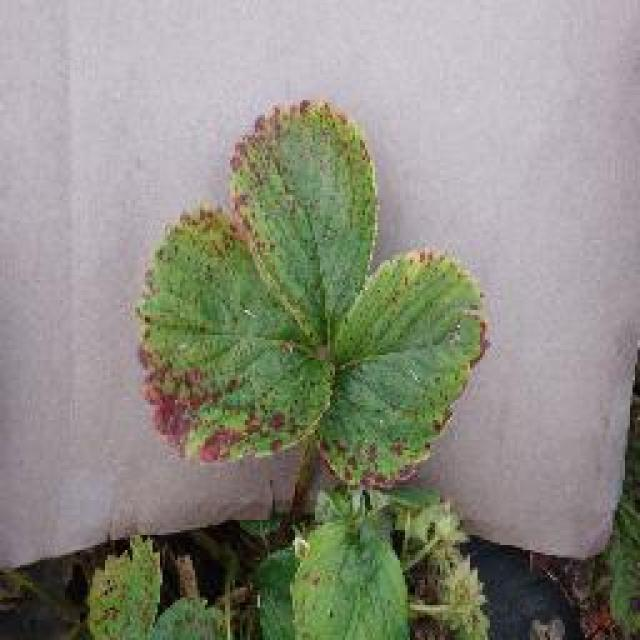Strawberry leaf scorch: (135, 73, 378, 455)
